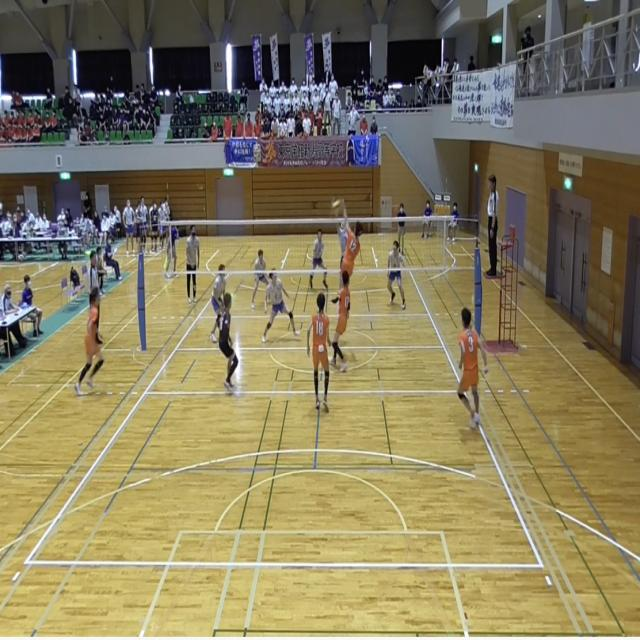spike: (328, 196, 364, 312)
